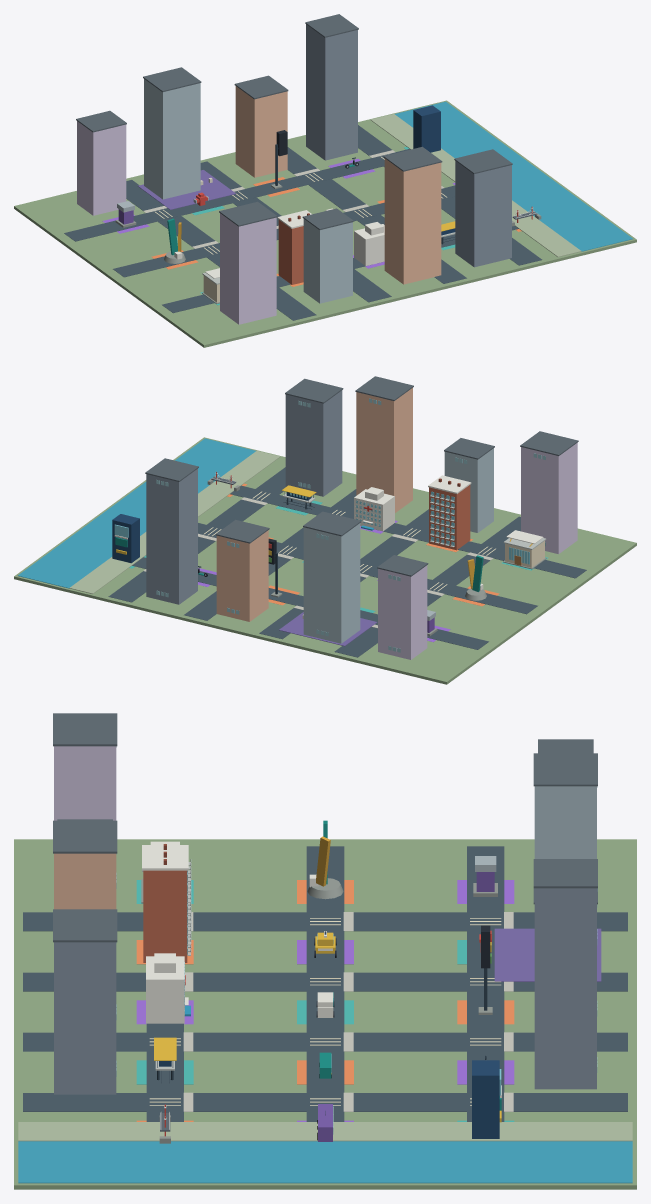
The model's file is metrovale.glb.
3 views of the same model, one above another, from view 1: azimuth 30°, elevation 25°; view 2: azimuth 150°, elevation 25°; view 3: azimuth 270°, elevation 25° (orthographic). The views are drawn at different scales.
Visible parts, largest first — view 1: background-building (×8), city-island, river-channel, avenue (×4), roof-cap (×8), cross-street (×3), river-promenade, apartment-tower, ticket-kiosk, civic-plaza, hospital-main; view 2: background-building (×8), city-island, avenue (×4), river-channel, roof-cap (×8), cross-street (×3), river-promenade, apartment-tower, hospital-main, ticket-kiosk, civic-plaza, library (+1 smaller); view 3: city-island, background-building (×5), avenue (×4), river-channel, cross-street (×3), roof-cap (×6), river-promenade, apartment-tower, civic-plaza, hospital-main, ticket-kiosk, roof.
Part boxes in pixels (bbox=[...]): background-building (×8): bbox=[77, 24, 511, 324]; city-island: bbox=[14, 100, 636, 347]; river-channel: bbox=[395, 101, 632, 251]; avenue (×4): bbox=[126, 125, 542, 320]; roof-cap (×8): bbox=[76, 14, 512, 229]; cross-street (×3): bbox=[64, 149, 518, 313]; river-promenade: bbox=[371, 114, 581, 257]; apartment-tower: bbox=[278, 220, 303, 284]; ticket-kiosk: bbox=[413, 105, 440, 152]; civic-plaza: bbox=[138, 170, 235, 209]; hospital-main: bbox=[354, 224, 384, 265]; background-building (×8): bbox=[146, 388, 577, 659]; city-island: bbox=[14, 437, 636, 684]; avenue (×4): bbox=[108, 467, 520, 657]; river-channel: bbox=[18, 438, 255, 588]; roof-cap (×8): bbox=[145, 376, 578, 576]; cross-street (×3): bbox=[132, 485, 586, 649]; river-promenade: bbox=[69, 451, 280, 593]; apartment-tower: bbox=[429, 485, 470, 550]; hospital-main: bbox=[354, 489, 394, 531]; ticket-kiosk: bbox=[112, 514, 139, 563]; civic-plaza: bbox=[279, 612, 377, 646]; library: bbox=[505, 541, 544, 567]; city-island: bbox=[14, 839, 636, 1189]; background-building (×5): bbox=[54, 746, 596, 1094]; avenue (×4): bbox=[23, 912, 627, 1111]; river-channel: bbox=[18, 1141, 632, 1183]; cross-street (×3): bbox=[146, 846, 504, 1121]; roof-cap (×6): bbox=[53, 713, 597, 942]; river-promenade: bbox=[18, 1122, 632, 1141]; apartment-tower: bbox=[143, 870, 187, 962]; civic-plaza: bbox=[494, 928, 601, 981]; hospital-main: bbox=[146, 956, 184, 1023]; ticket-kiosk: bbox=[472, 1060, 499, 1138]; roof: bbox=[142, 845, 188, 870].
Bounding box in the file's own units: 92 × 25.79 × 70.
